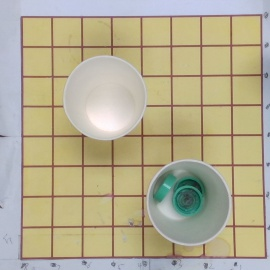cup: (62, 56, 149, 141)
cup_green: (146, 159, 230, 247)
